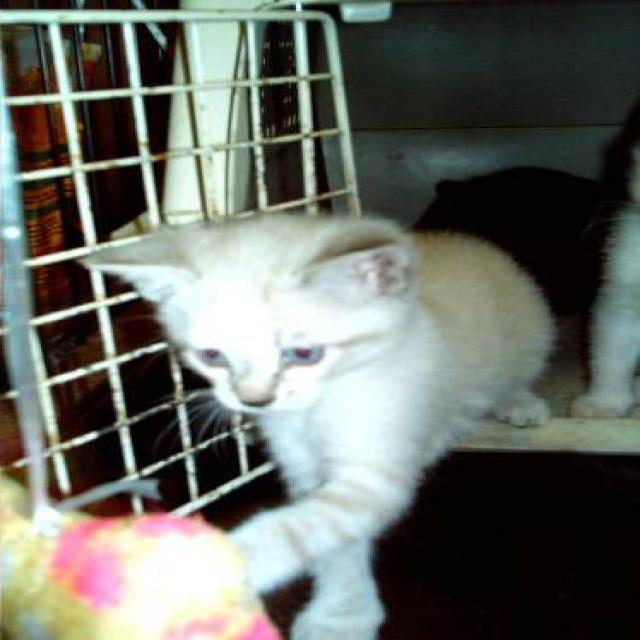Cat: (107, 216, 436, 418)
